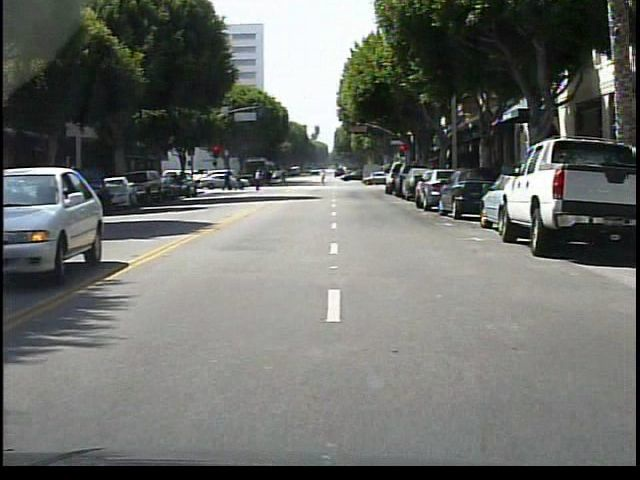person: (250, 166, 270, 195)
